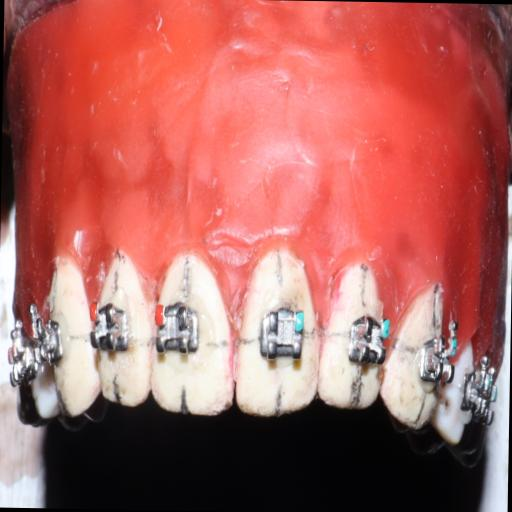incorrect_brace: (153, 294, 204, 360), (254, 305, 309, 364)
